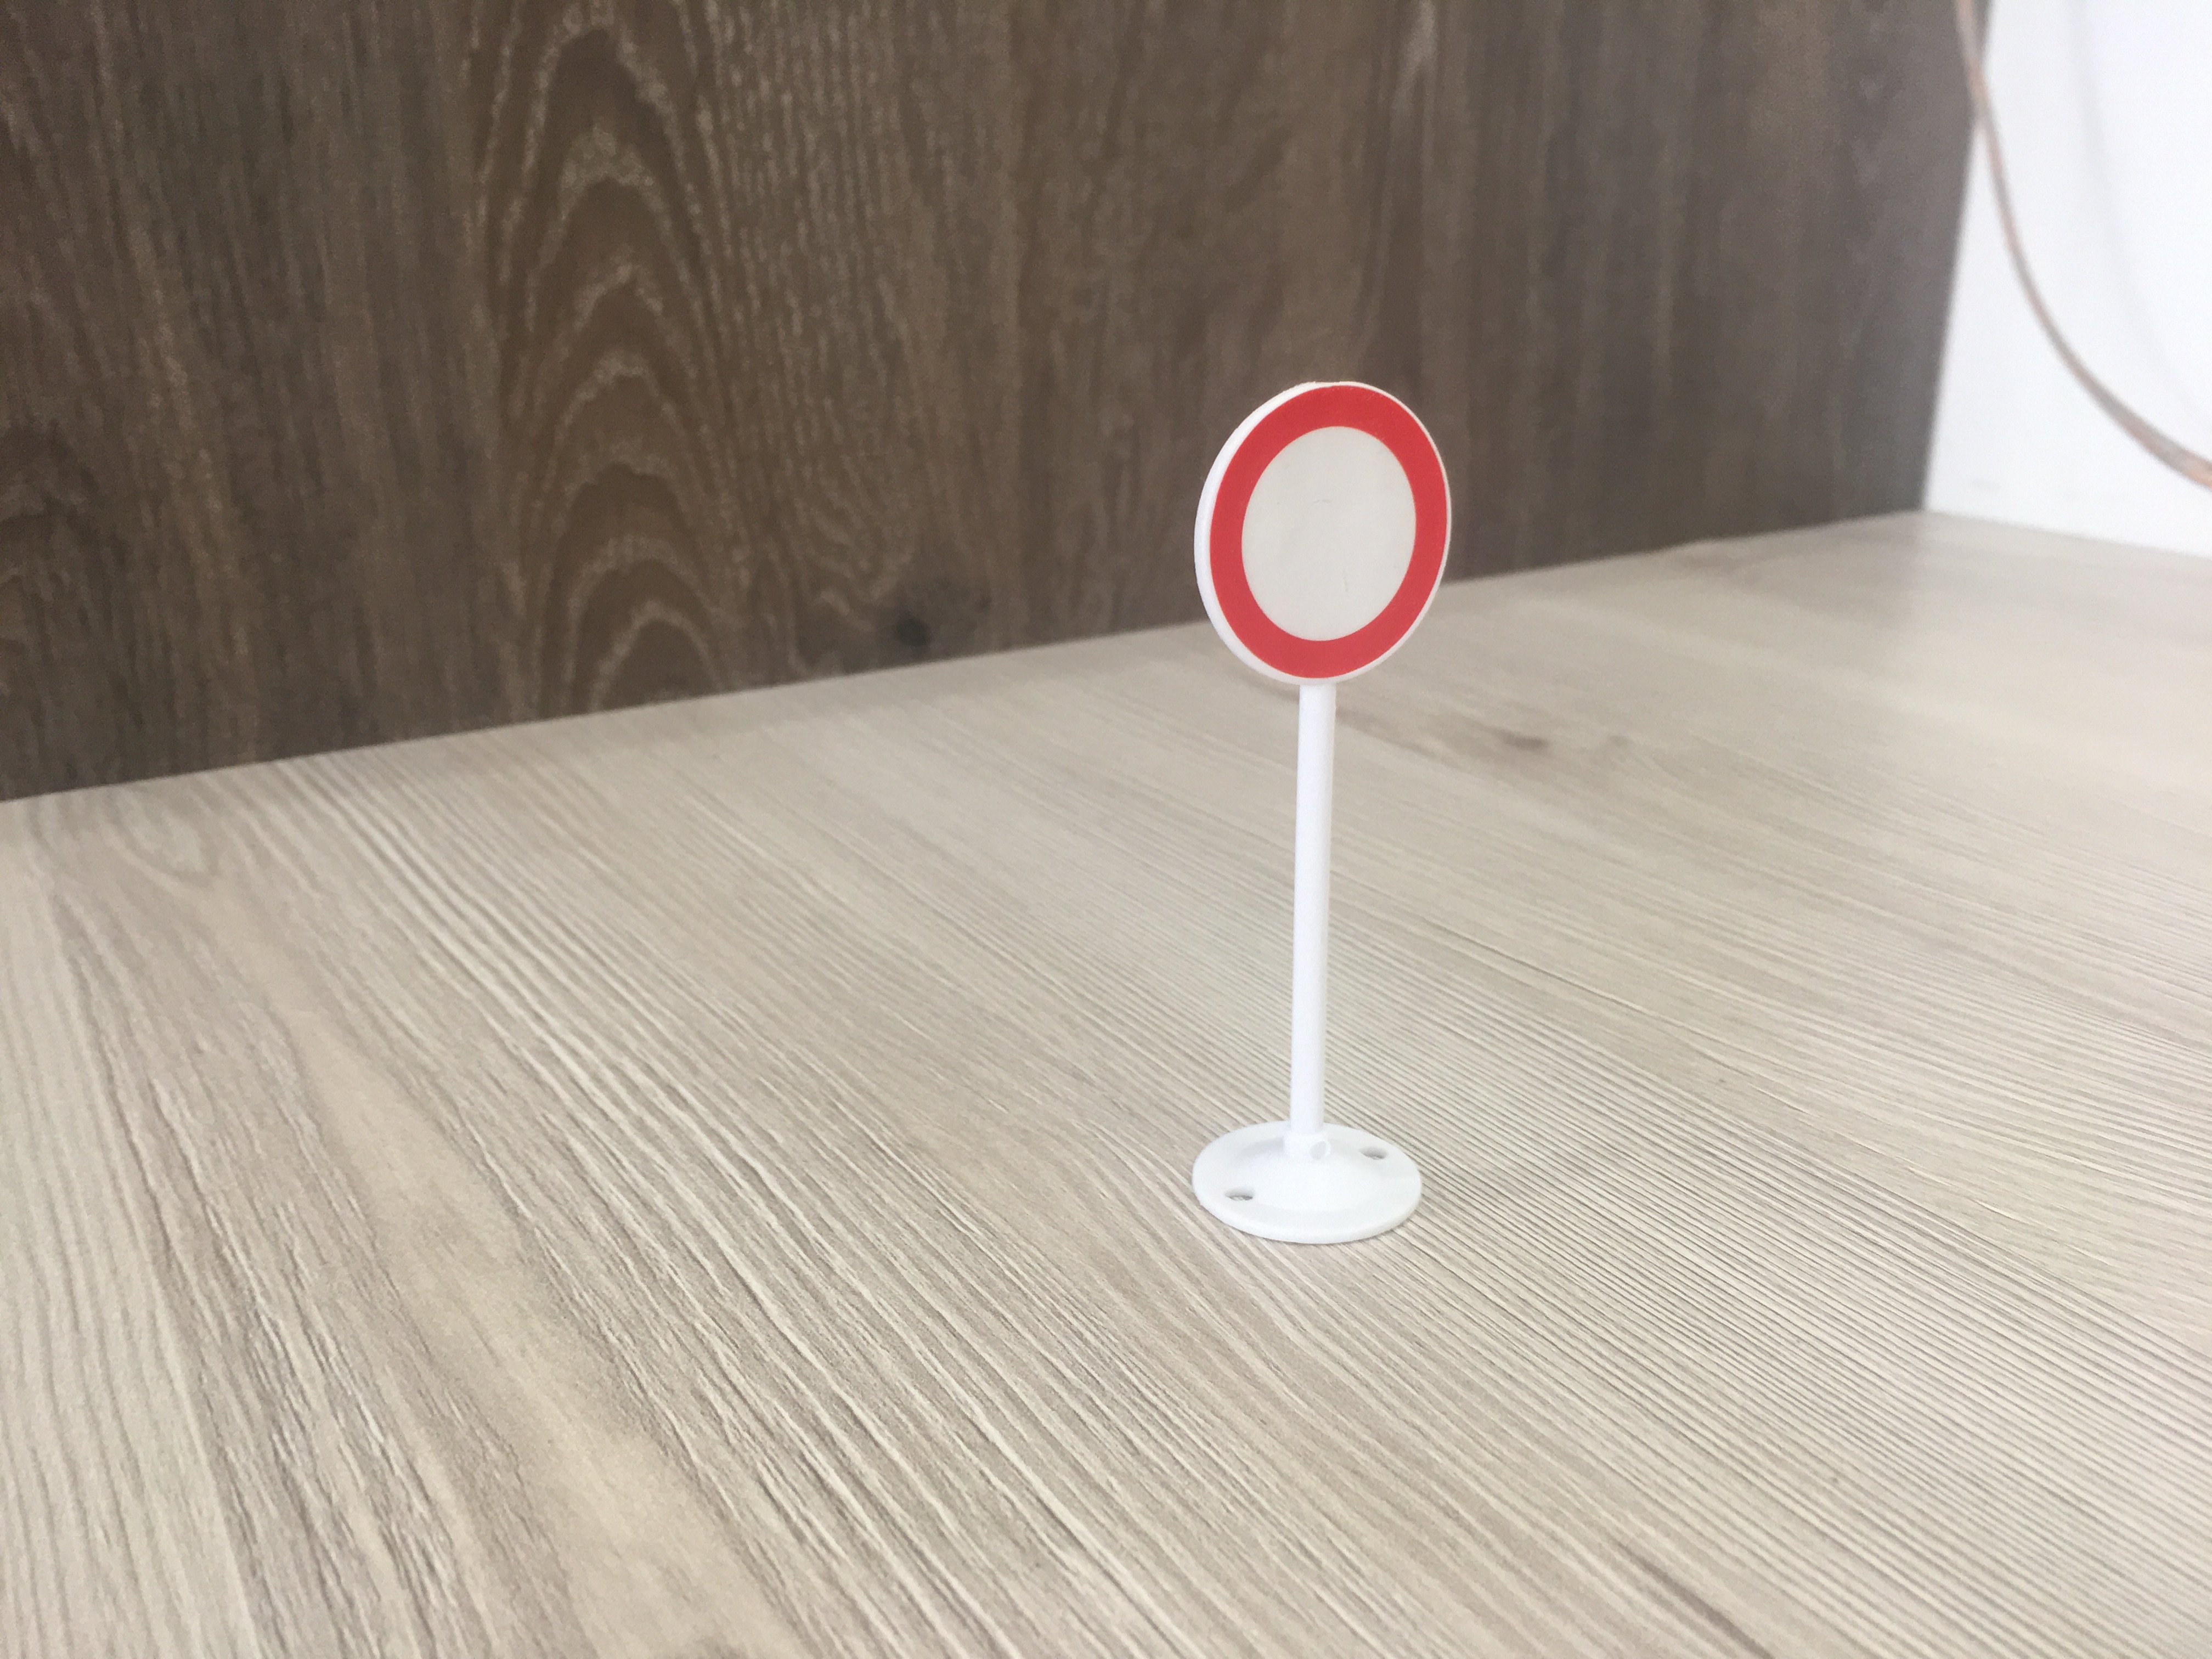noDrive: (1191, 376, 1456, 690)
